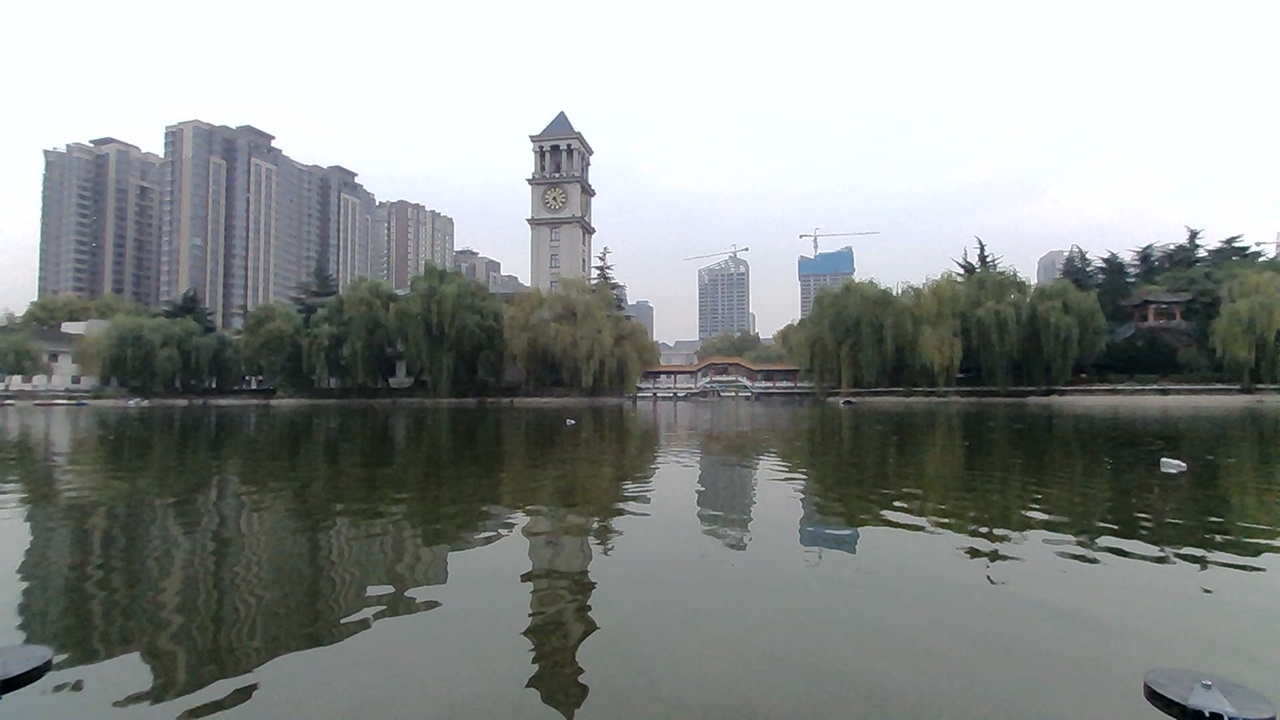bottle: (1154, 454, 1186, 475), (557, 408, 588, 429)
